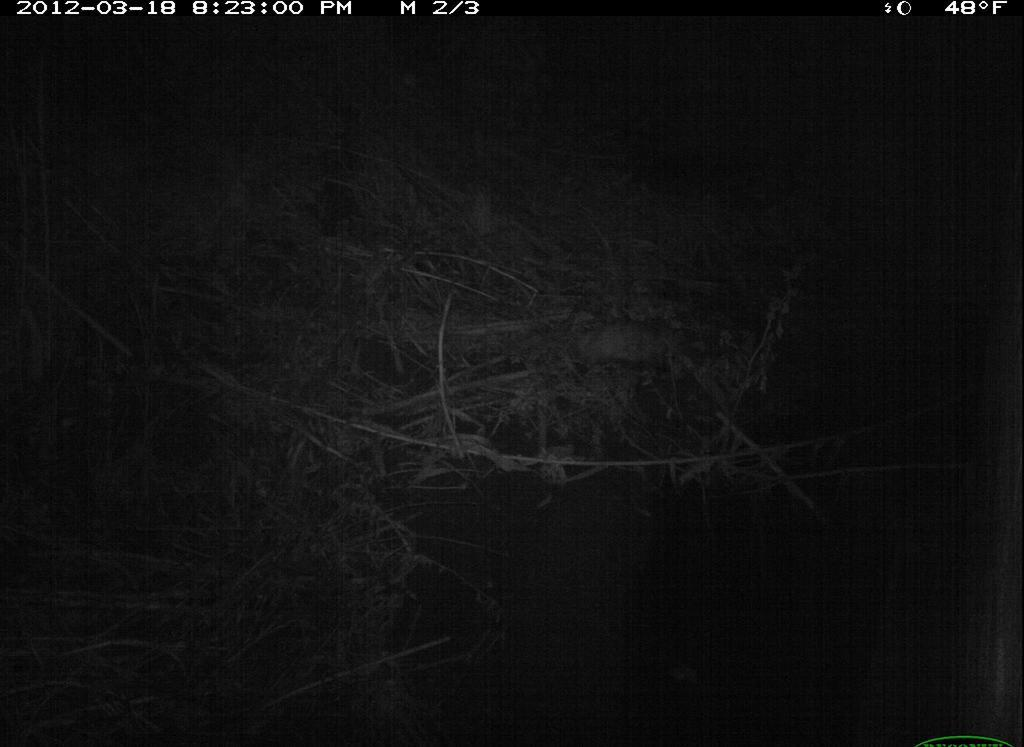opossum: (564, 308, 692, 376)
